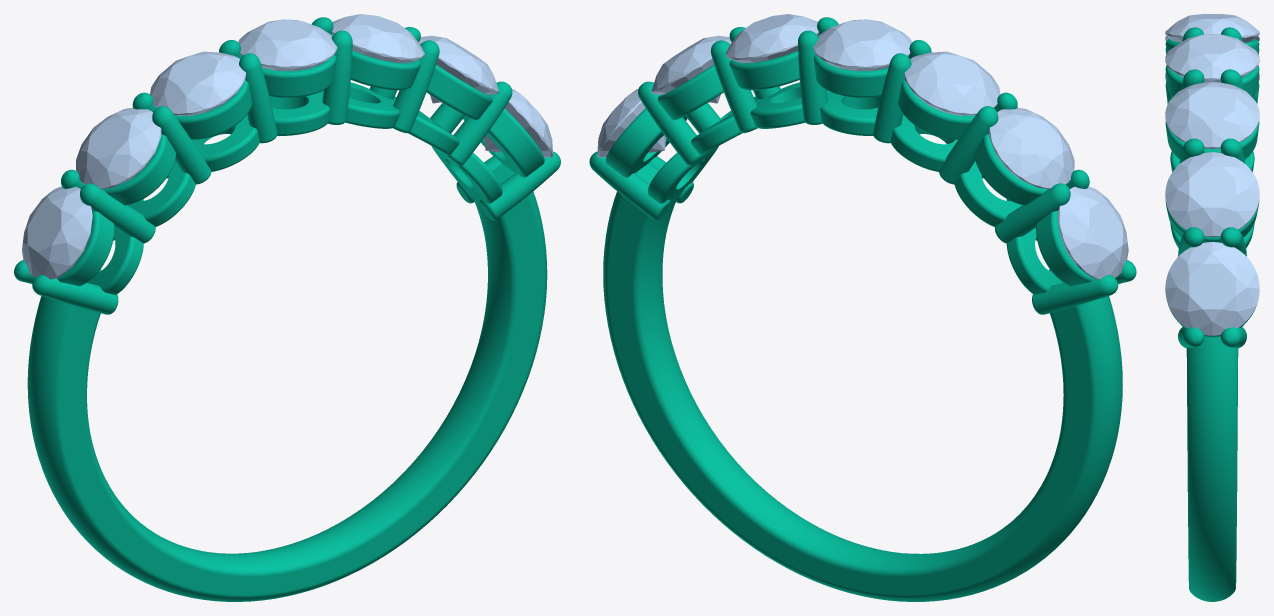
The picture shows the model from 3 angles, left to right: view 1: azimuth 30°, elevation 25°; view 2: azimuth 150°, elevation 25°; view 3: azimuth 270°, elevation 25°; orthographic projection. The views are drawn at different scales.
Parts seen in each view (by area): view 1: 7 stone rings(render).3dm, Bezel (×14), Diamond_Round (×7); view 2: 7 stone rings(render).3dm, Bezel (×14), Diamond_Round (×7); view 3: Diamond_Round (×5), 7 stone rings(render).3dm, Bezel (×6).
Boxes of the visible parts, box(x1,y1,x2,y2) form: 7 stone rings(render).3dm: box(14, 17, 560, 601); Bezel (×14): box(57, 35, 544, 294); Diamond_Round (×7): box(22, 14, 552, 279); 7 stone rings(render).3dm: box(589, 17, 1136, 601); Bezel (×14): box(605, 35, 1093, 294); Diamond_Round (×7): box(597, 14, 1128, 279); Diamond_Round (×5): box(1165, 14, 1259, 335); 7 stone rings(render).3dm: box(1178, 27, 1246, 601); Bezel (×6): box(1165, 39, 1259, 247).
Bounding box in the file's own units: 2.78 × 2.84 × 0.4571.
